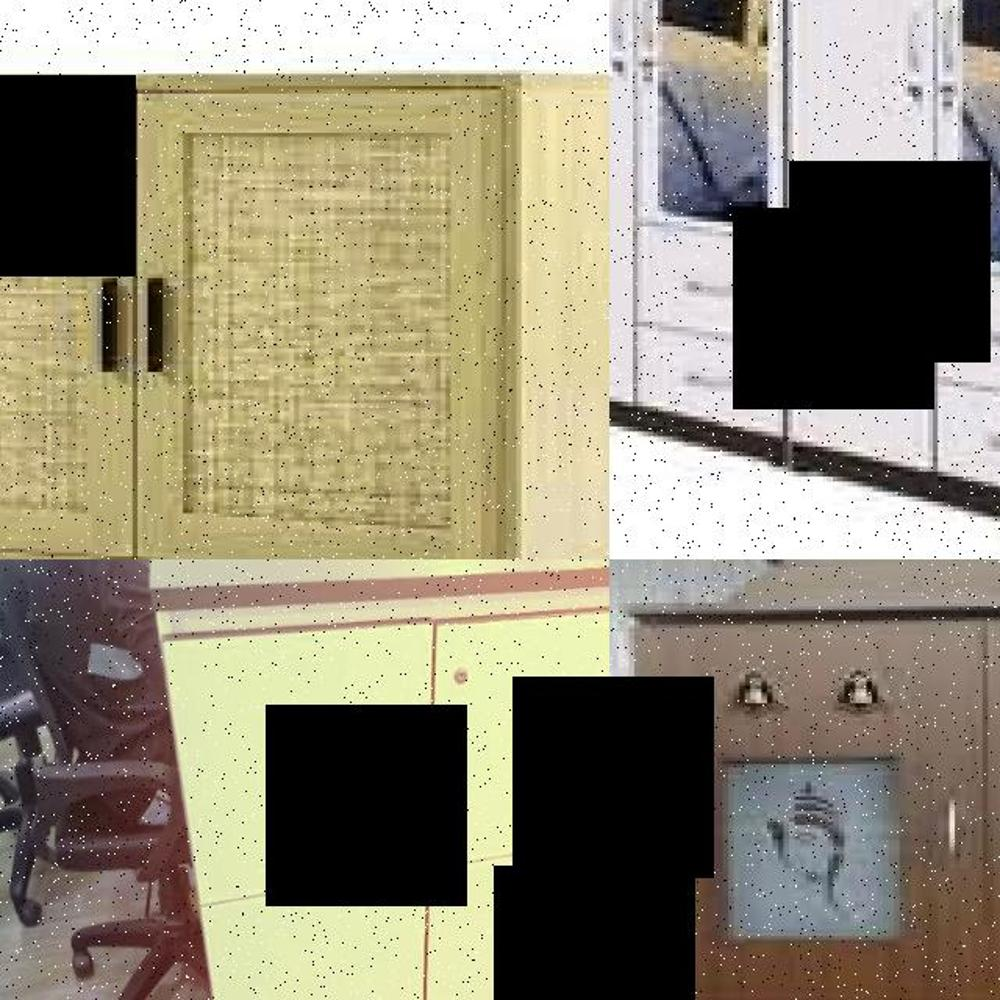cabinet: (0, 19, 609, 559), (609, 0, 1000, 559), (136, 559, 609, 1000), (638, 559, 1000, 1000)
